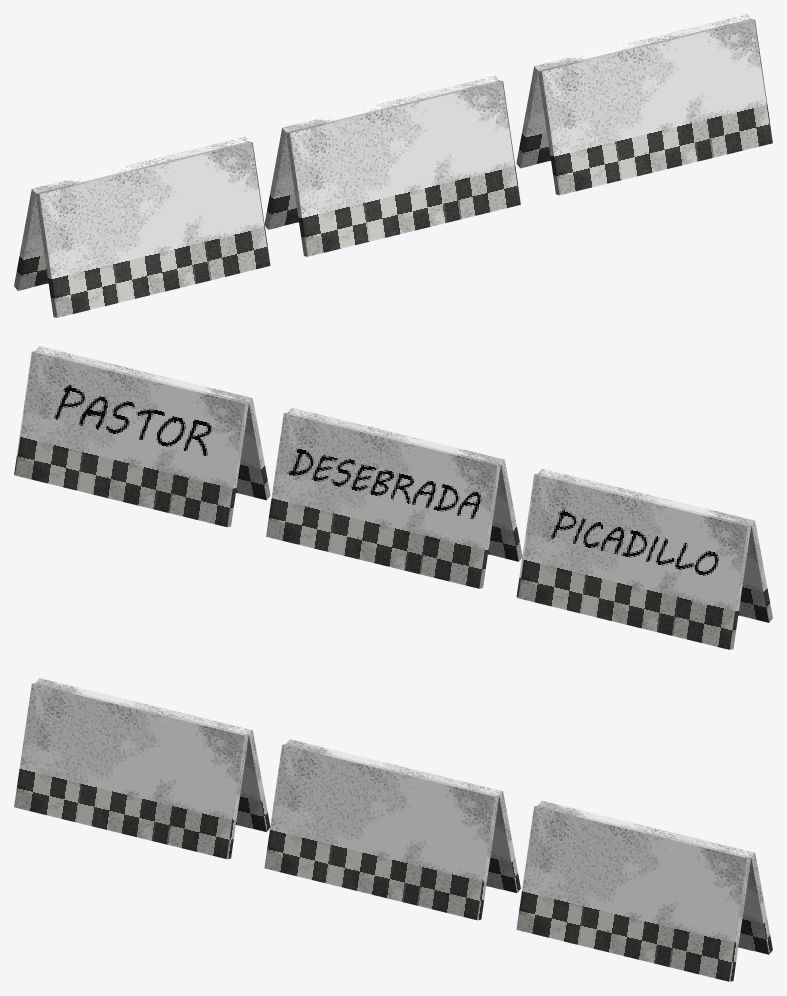
The model's file is cartel.glb.
3 views of the same model, one above another, from view 1: azimuth 30°, elevation 25°; view 2: azimuth 150°, elevation 25°; view 3: azimuth 330°, elevation 25° (orthographic).
Visible parts, largest first — view 1: front_0, front_0.001, front_0.002, back_1.001, back_1.002, back_1; view 2: back_1, back_1.001, back_1.002, front_0.001, front_0.002, front_0; view 3: front_0, front_0.002, front_0.001, back_1, back_1.001, back_1.002.
Part boxes in pixels (x1,y1,x2,y2): front_0: (286, 80, 520, 256); front_0.001: (538, 19, 772, 195); front_0.002: (36, 141, 270, 317); back_1.001: (516, 14, 750, 168); back_1.002: (14, 136, 248, 290); back_1: (264, 75, 498, 229); back_1: (266, 412, 500, 588); back_1.001: (14, 351, 248, 527); back_1.002: (516, 473, 750, 649); front_0.001: (36, 346, 270, 500); front_0.002: (538, 468, 772, 622); front_0: (288, 407, 522, 561); front_0: (264, 744, 499, 920); front_0.002: (14, 683, 248, 859); front_0.001: (516, 805, 750, 981); back_1: (286, 739, 520, 893); back_1.001: (538, 800, 772, 954); back_1.002: (36, 678, 270, 832).
Bounding box in the file's own units: 3.25 × 0.4887 × 0.3412.
Materials: 3 (3 with a texture image).
